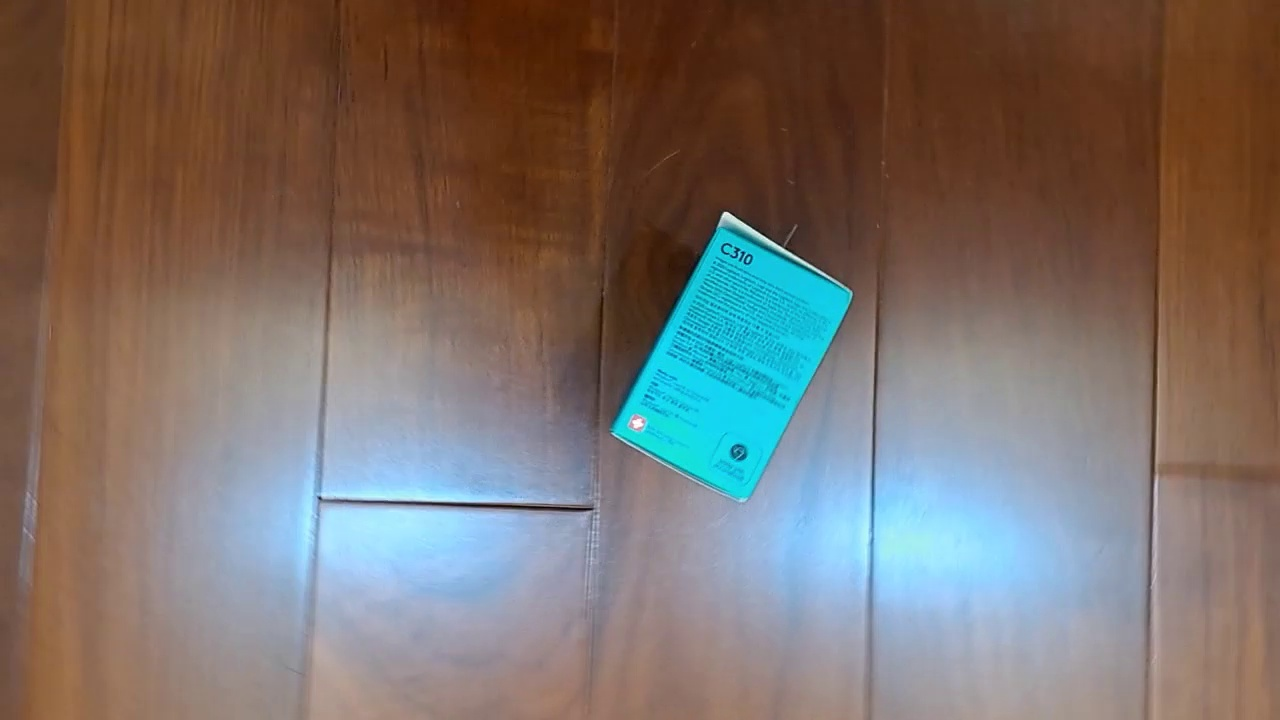webcam: (607, 209, 854, 505)
